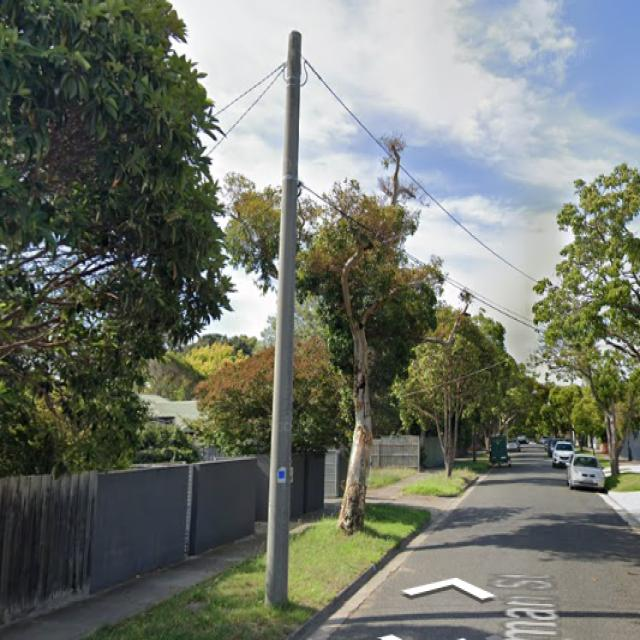concrete-pole: (263, 30, 303, 610)
